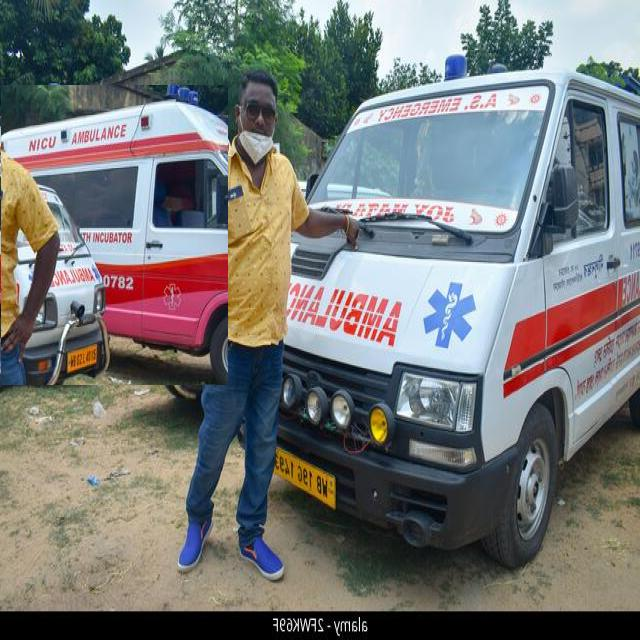emergency: (279, 72, 640, 566), (0, 86, 228, 385)
